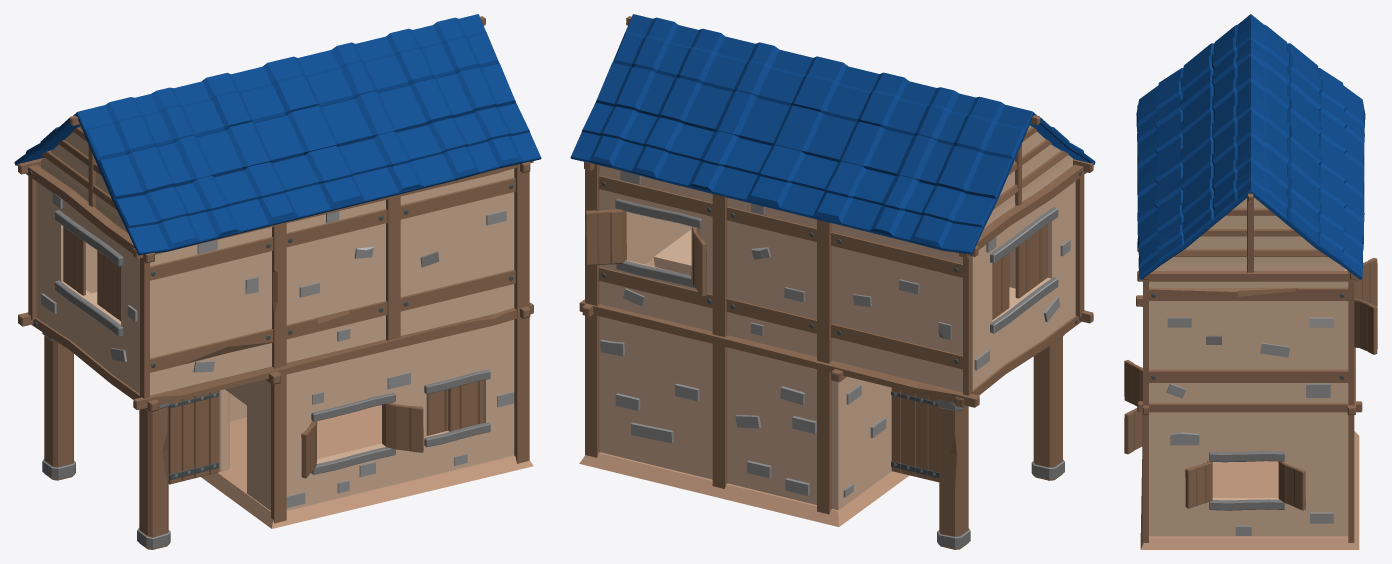
Rendered from House_03.fbx.
3 renders of one model, left to right at view 1: azimuth 30°, elevation 25°; view 2: azimuth 150°, elevation 25°; view 3: azimuth 270°, elevation 25°, orthographic. The views are drawn at different scales.
Parts seen in each view (by area): view 1: House_03, Door; view 2: House_03, Door; view 3: House_03.
Boxes of the visible parts, x1,y1,x2,y2 form: House_03: [14, 14, 541, 549]; Door: [168, 390, 219, 484]; House_03: [570, 14, 1095, 549]; Door: [891, 387, 939, 482]; House_03: [1124, 14, 1377, 549].
Bounding box in the file's own units: 961 × 896 × 563.
Materials: 2 (2 with a texture image).
